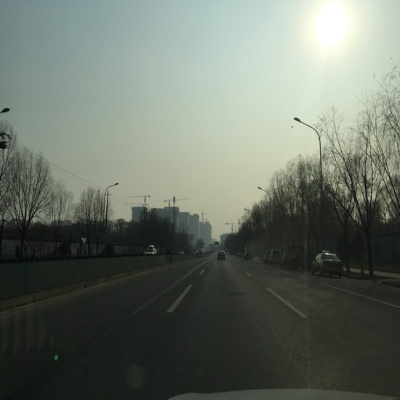car: (309, 249, 345, 279), (264, 247, 283, 267), (142, 243, 157, 257), (216, 249, 228, 262), (244, 253, 253, 262), (198, 246, 206, 256), (192, 250, 200, 260), (178, 250, 186, 259), (237, 250, 243, 260)
